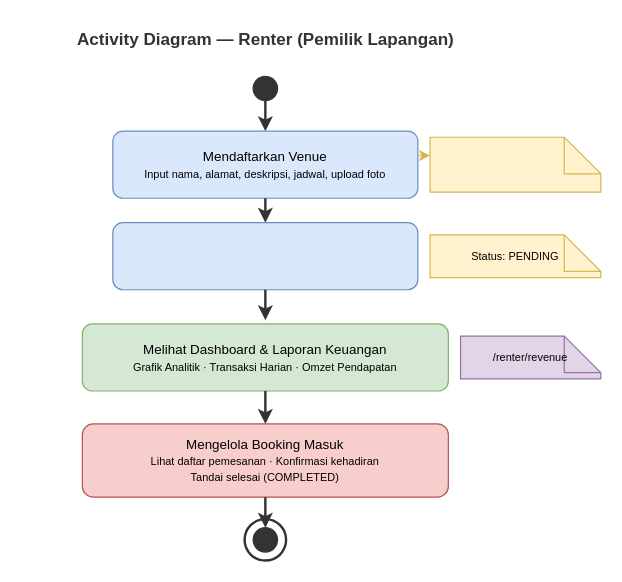
This 622x582 diagram has some shape labels left out. Each missing label, with the centre of its shape:
"Menambahkan Lapangan (Fields) Pilih SportType · Atur Harga/Jam · Upload Foto" goes at pixel 265 255.
"Status: DRAFT Menunggu persetujuan Admin" goes at pixel 515 164.
